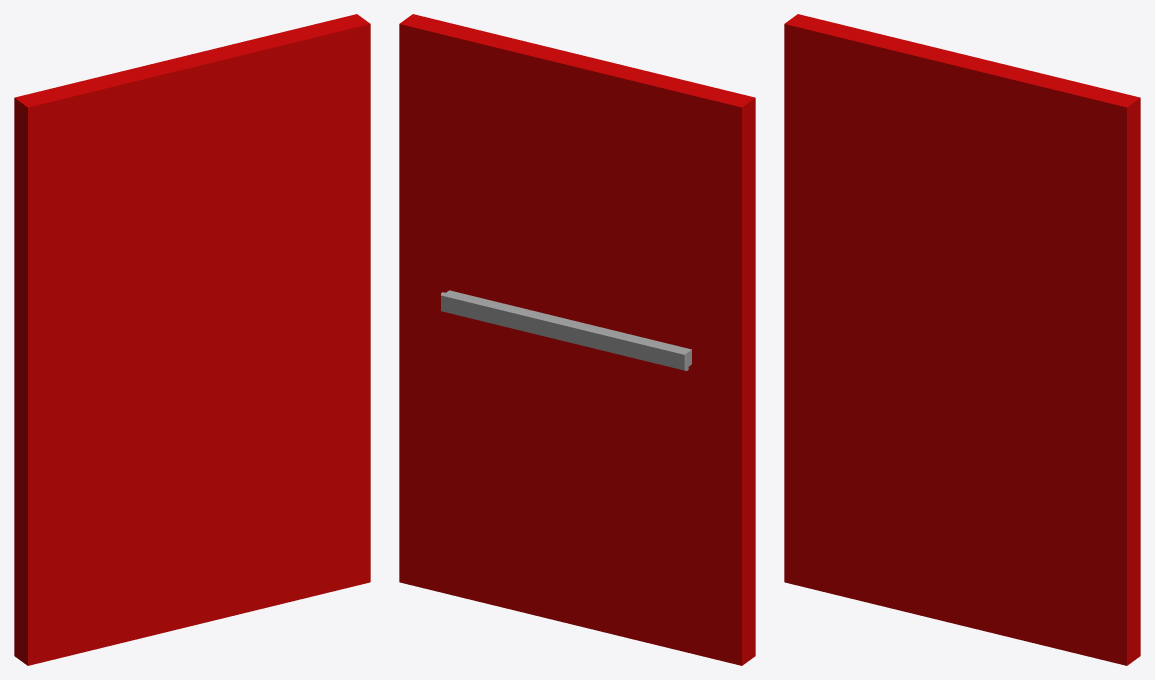
The model's file is WW_WonderLandEscapeDoor_Prop.fbx.
3 renders of one model, left to right at view 1: azimuth 30°, elevation 25°; view 2: azimuth 150°, elevation 25°; view 3: azimuth 330°, elevation 25°, orthographic.
Visible parts, largest first — view 1: Door; view 2: Door, DoorPushBar; view 3: Door.
Boxes of the visible parts, left/top/right/bottom form: Door: left=14, top=14, right=370, bottom=665; Door: left=399, top=14, right=755, bottom=665; DoorPushBar: left=441, top=290, right=691, bottom=370; Door: left=784, top=14, right=1140, bottom=665.
Bounding box in the file's own units: 161 × 250 × 17.42.
